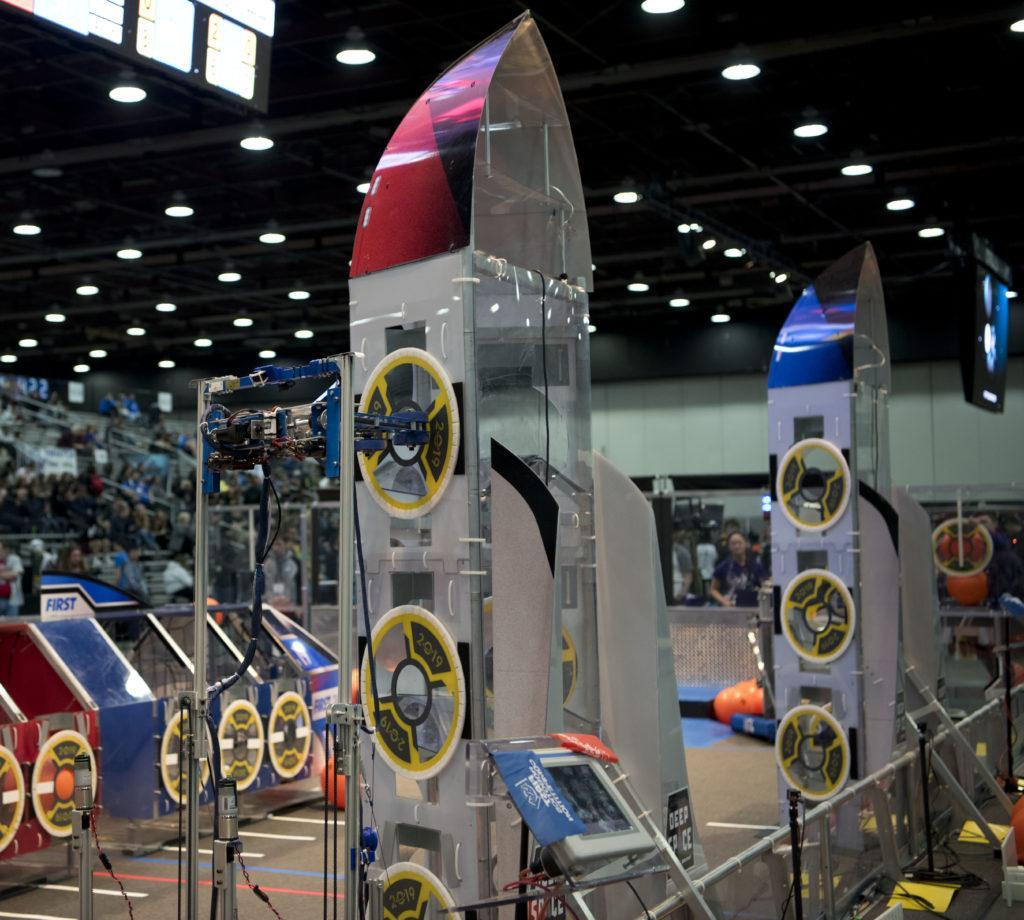robot: (149, 346, 429, 920), (721, 588, 789, 756)
